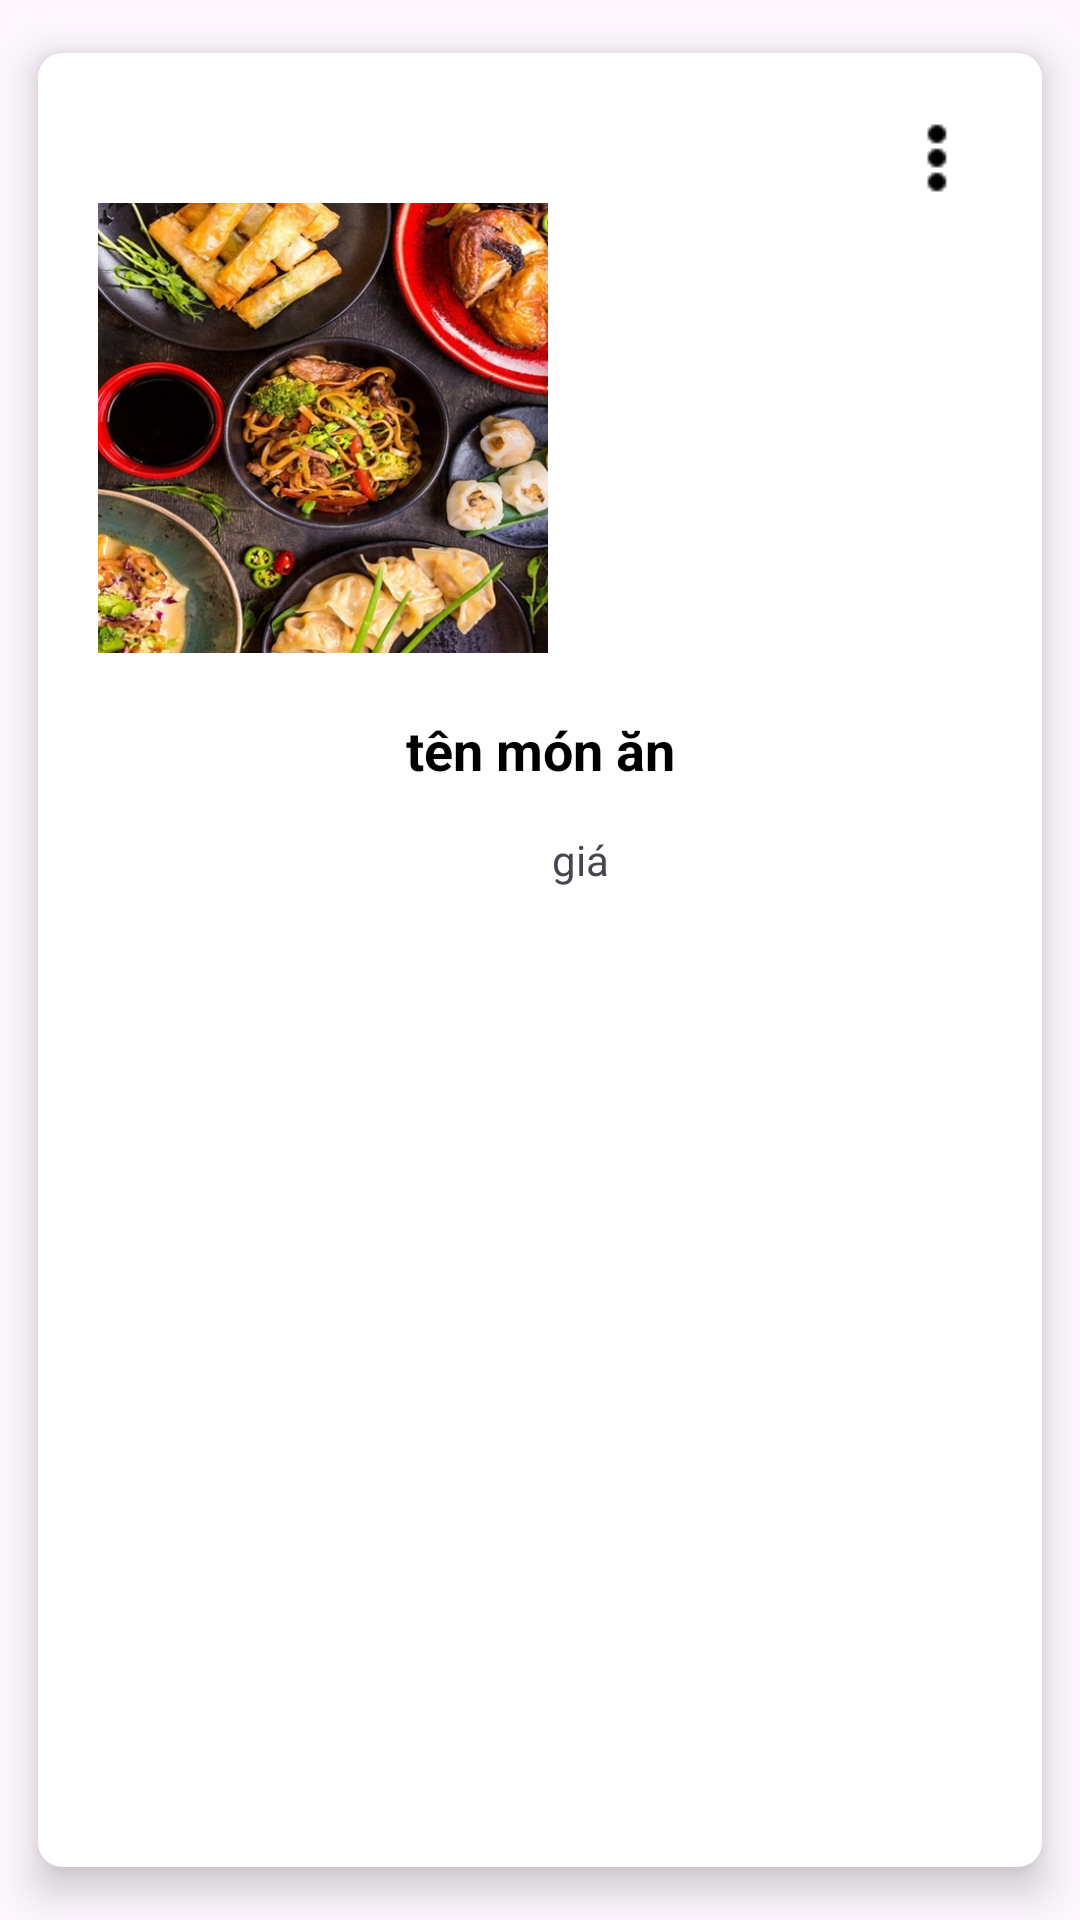

Icon bounding boxes for this 1080*1920 phone screenshot, format [x1=x1, y1=y1, x2=x2, y2=y2]:
show: [x1=927, y1=124, x2=947, y2=192]
